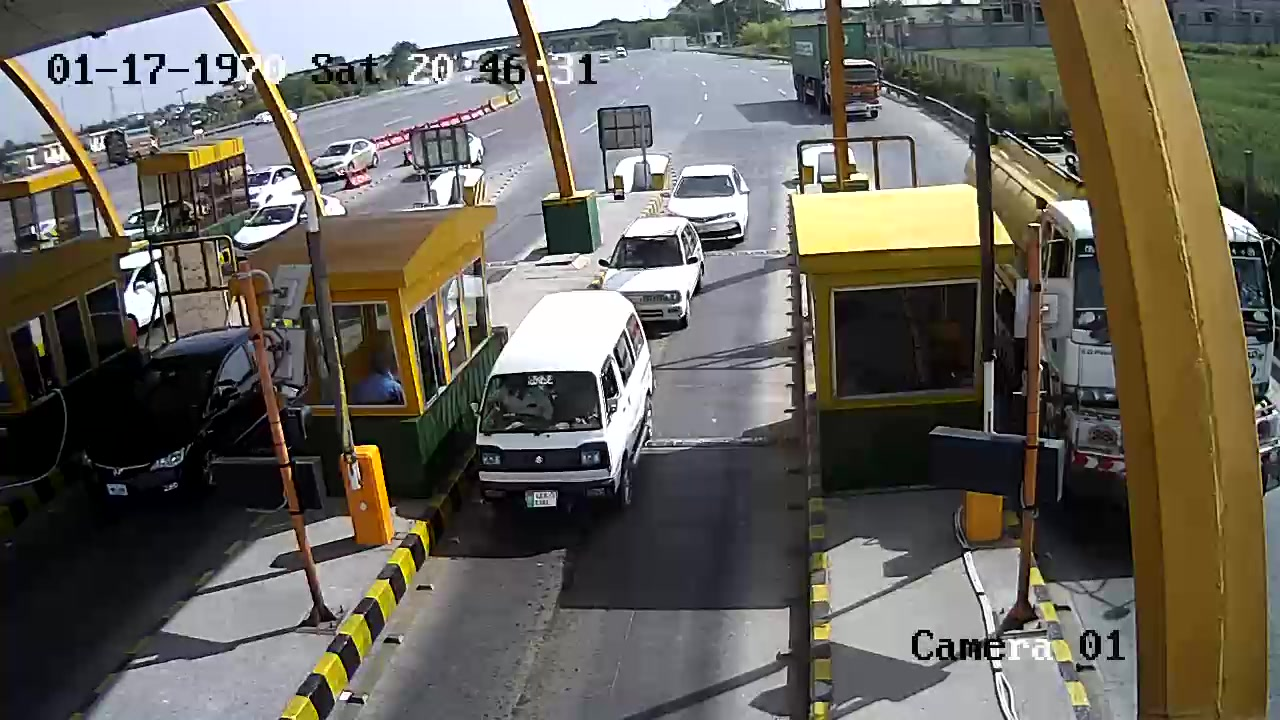F1: (456, 291, 656, 526)
